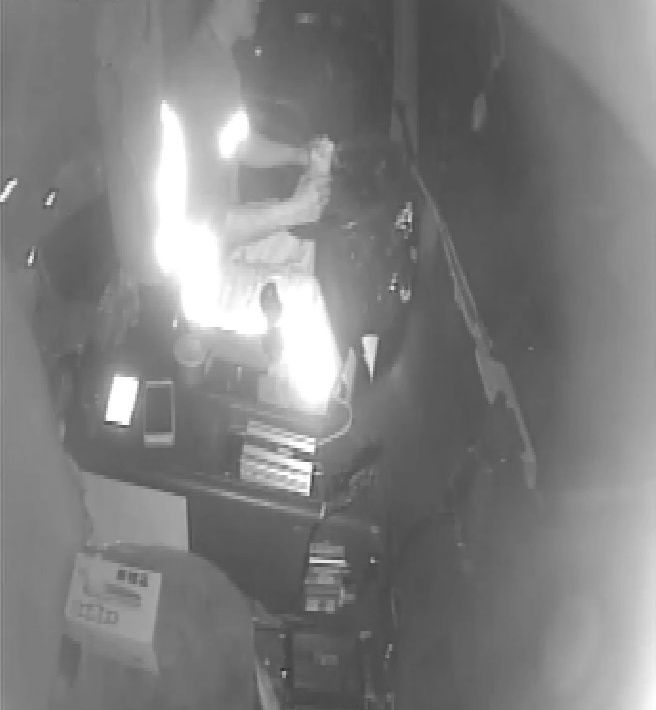cellphone: (105, 373, 142, 429)
